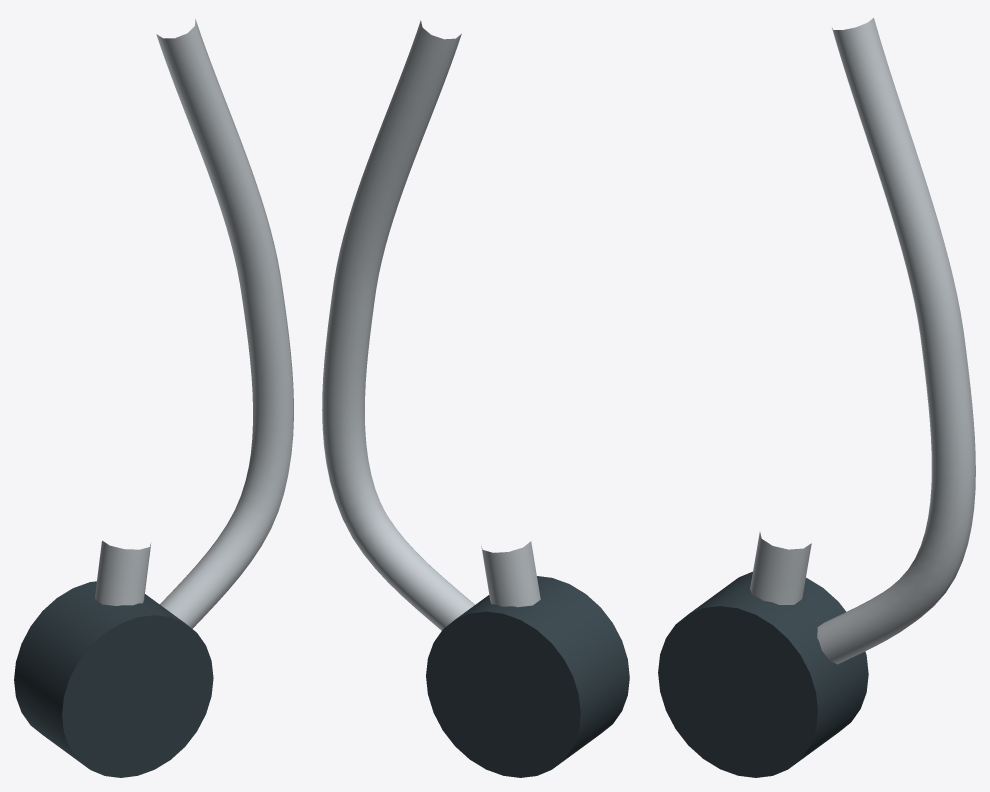
The model's file is lvad-path.glb.
The picture shows the model from 3 angles, left to right: view 1: azimuth 30°, elevation 25°; view 2: azimuth 150°, elevation 25°; view 3: azimuth 330°, elevation 25°; orthographic projection. The views are drawn at different scales.
Visible parts, largest first — view 1: LVADPump, LVADOutflow, LVADInflow; view 2: LVADPump, LVADOutflow, LVADInflow; view 3: LVADOutflow, LVADPump, LVADInflow.
Part boxes in pixels (bbox=[...]): LVADPump: bbox=[14, 581, 213, 777]; LVADOutflow: bbox=[156, 19, 293, 628]; LVADInflow: bbox=[95, 540, 150, 605]; LVADPump: bbox=[426, 576, 629, 777]; LVADOutflow: bbox=[322, 20, 474, 630]; LVADInflow: bbox=[481, 541, 540, 607]; LVADOutflow: bbox=[817, 18, 975, 664]; LVADPump: bbox=[658, 571, 868, 777]; LVADInflow: bbox=[750, 532, 811, 604].
Size of the model in its own units: 1.08 by 2.78 by 0.34.
